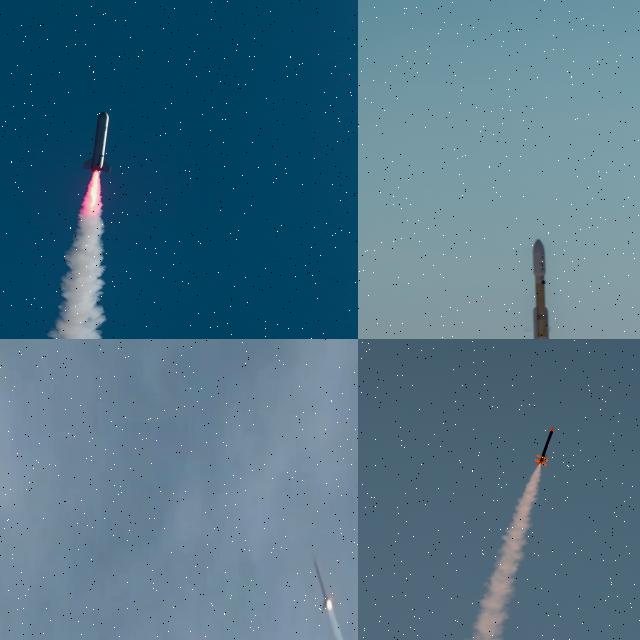Rocket: (80, 106, 120, 178), (532, 238, 549, 339), (313, 556, 332, 608), (534, 426, 555, 467)
